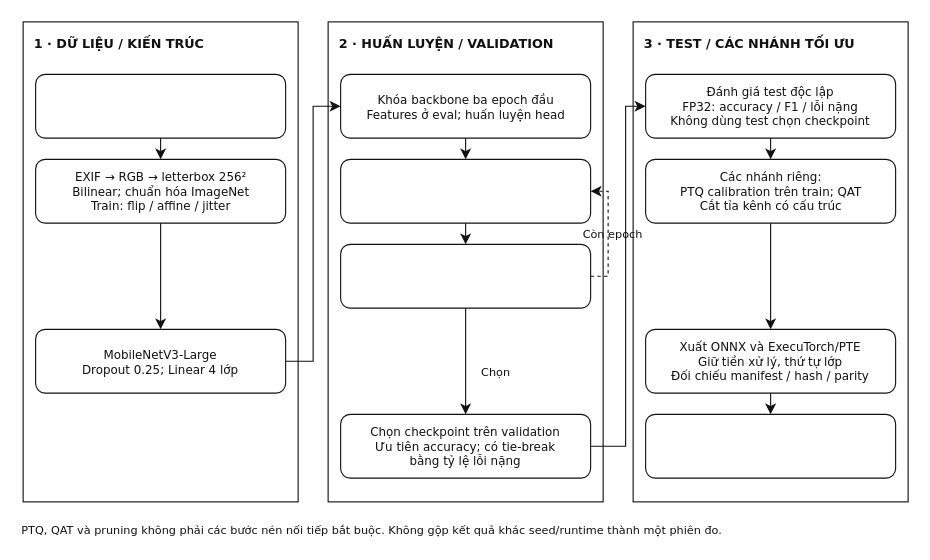
Some shapes in this 930 by 560 pixel diagram are drawn without their labels. Each missing label, with the centre of its shape:
1702 ảnh, bốn mức ngập Train 1189 / val 257 / test 256: [160,105]
Mở backbone, AdamW CE smoothing + 0.1 severity ReduceLROnPlateau: [465,190]
Tích hợp Flutter Đánh giá runtime / thiết bị Giữ provenance từng seed: [770,445]
Validation mỗi epoch Accuracy / lỗi nặng Early stopping patience 7: [465,275]
